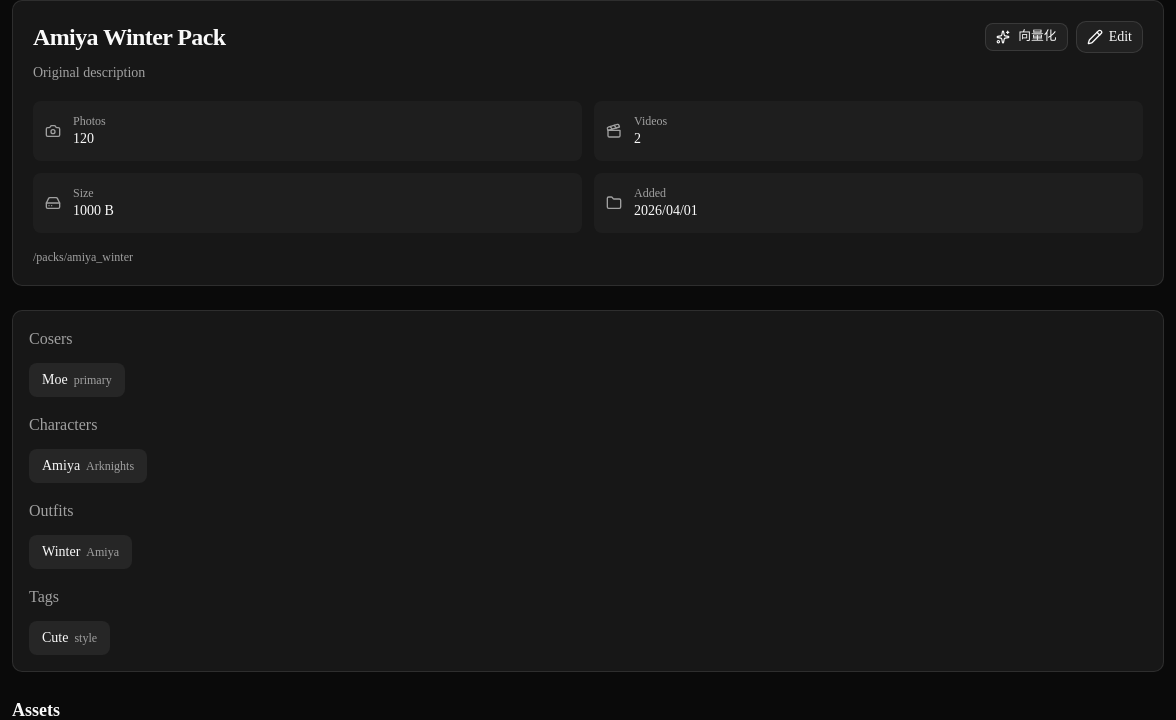
Scenario: PackDetailClient › restores original values when canceling edit mode
Click the button "Edit": (1109, 37) [1076,21,1143,53]
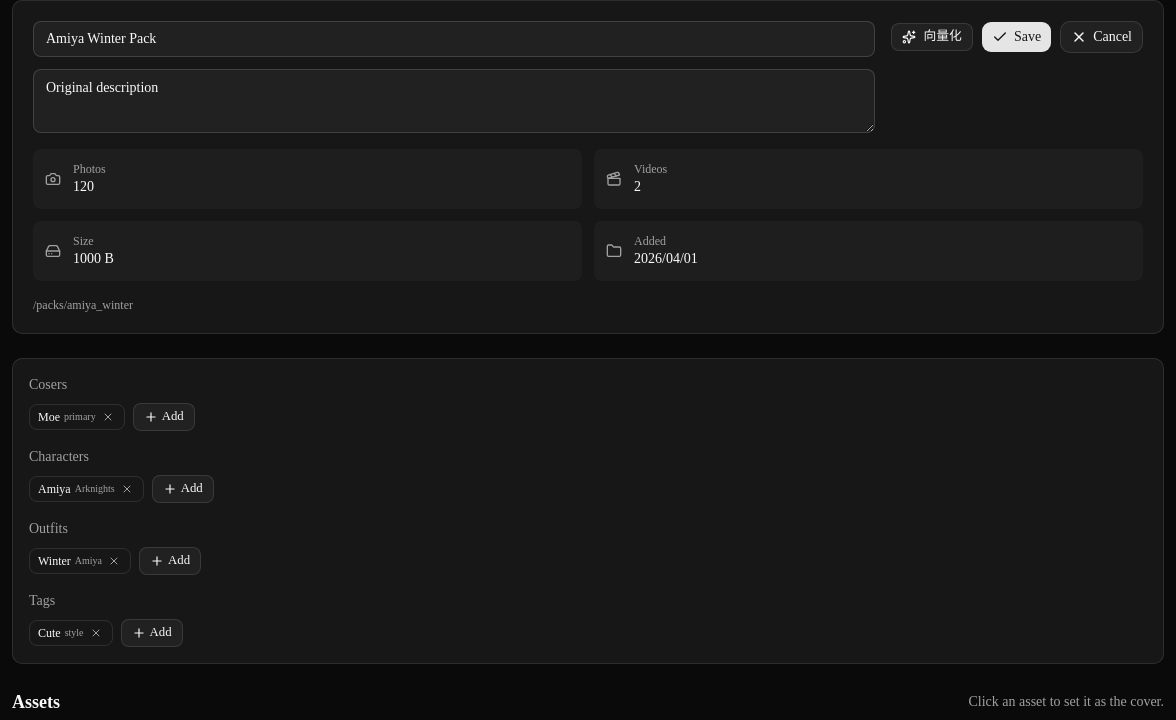
Replace the text in the field named "Pack title" with "Changed title": (454, 39) [33,21,874,57]
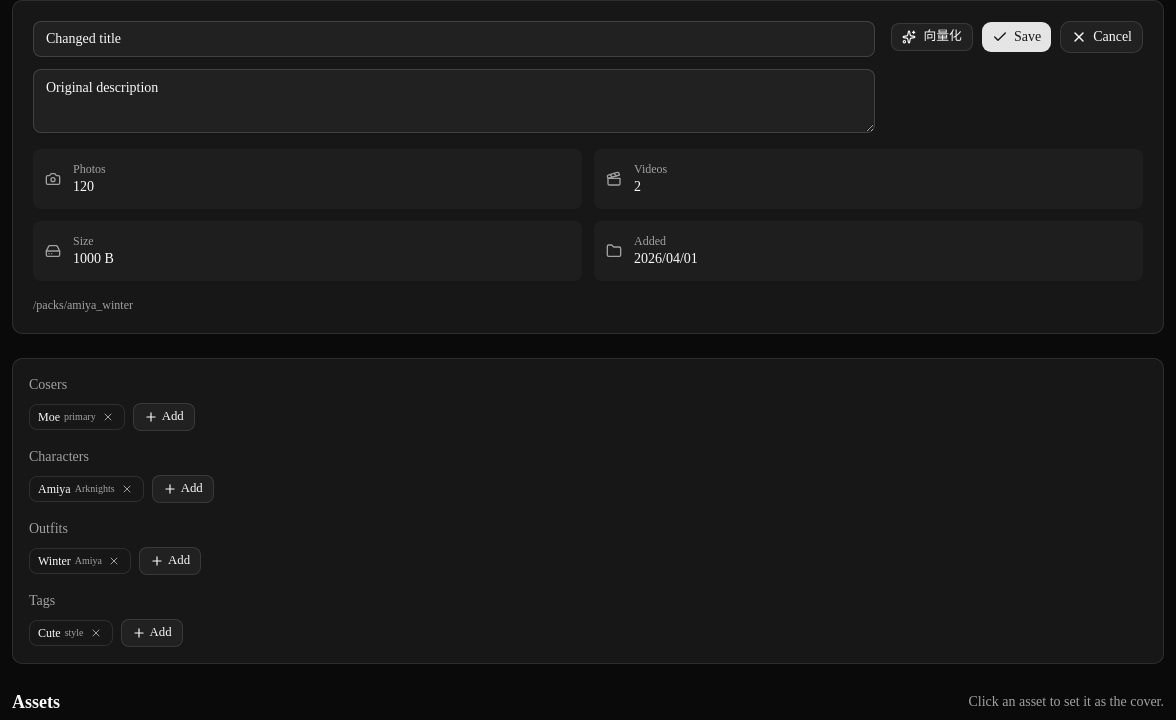
Click the button "Cancel": (1102, 37) [1060,21,1143,53]
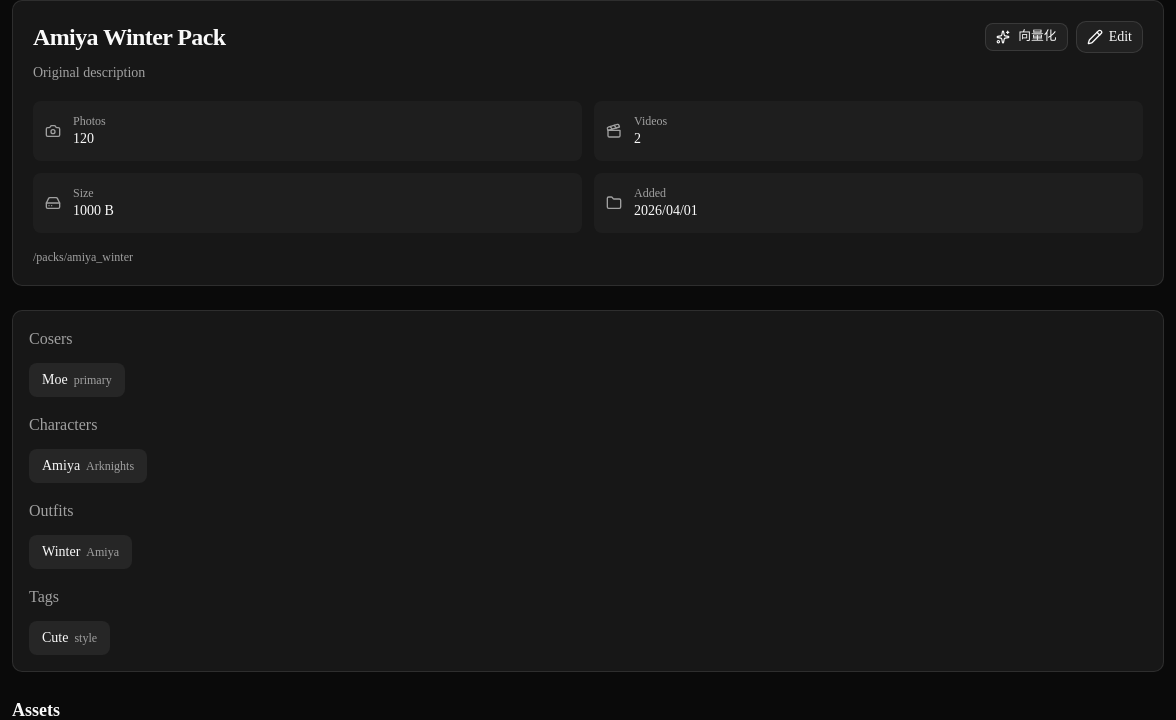
Check: the heading "Amiya Winter Pack" is shown, box [33,24,226,50]
